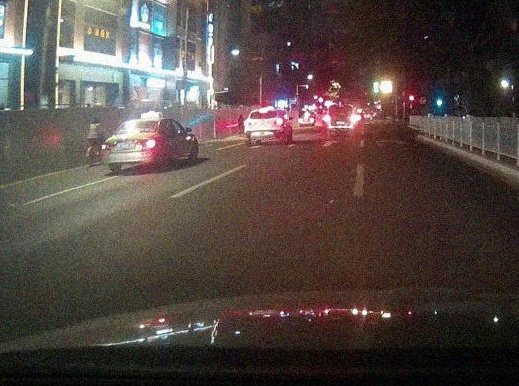L_light: (102, 142, 116, 150), (244, 121, 254, 126)
R_light: (136, 140, 156, 147), (271, 120, 283, 124)
T_light: (134, 121, 145, 124), (260, 111, 268, 113)
night-brake: (243, 108, 286, 146)
night-right: (102, 119, 160, 172)
